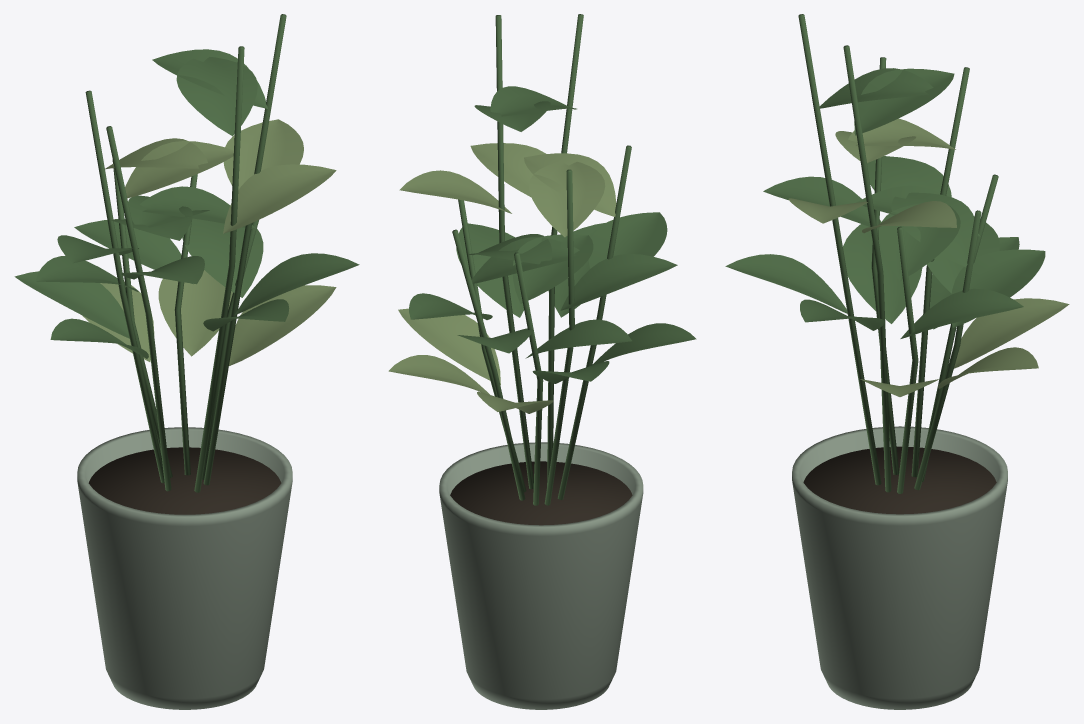
Rendered from country.plant.gltf.
The picture shows the model from 3 angles, left to right: view 1: azimuth 30°, elevation 25°; view 2: azimuth 150°, elevation 25°; view 3: azimuth 270°, elevation 25°; orthographic projection. The views are drawn at different scales.
Visible parts, largest first — view 1: country.plant.pot; view 2: country.plant.pot; view 3: country.plant.pot.
Part boxes in pixels (left/top/right/bottom): country.plant.pot: left=14, top=14, right=359, bottom=709; country.plant.pot: left=388, top=14, right=696, bottom=709; country.plant.pot: left=725, top=14, right=1069, bottom=709.
Bounding box in the file's own units: 0.3406 × 0.7205 × 0.3369.
